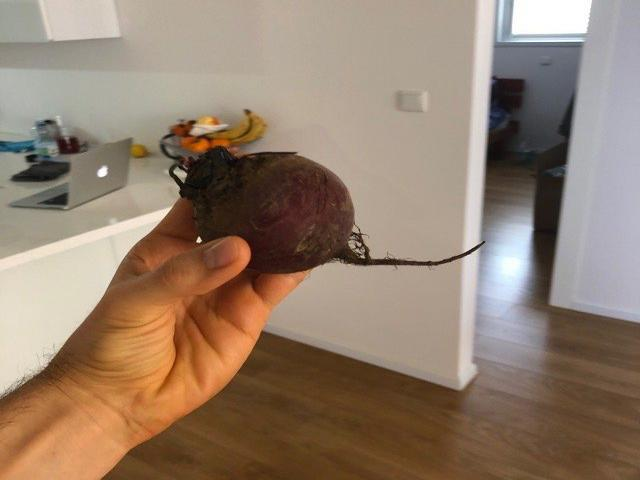beet: (170, 148, 486, 272)
